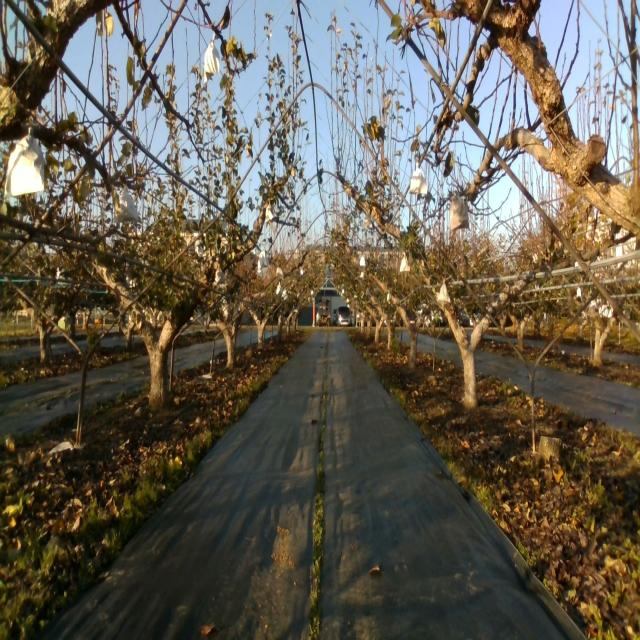pearbags: (5, 128, 50, 196), (112, 182, 140, 223), (447, 191, 471, 227), (408, 156, 430, 195), (203, 31, 219, 83), (437, 276, 454, 303), (212, 264, 229, 290), (257, 245, 271, 271), (399, 249, 411, 272)
